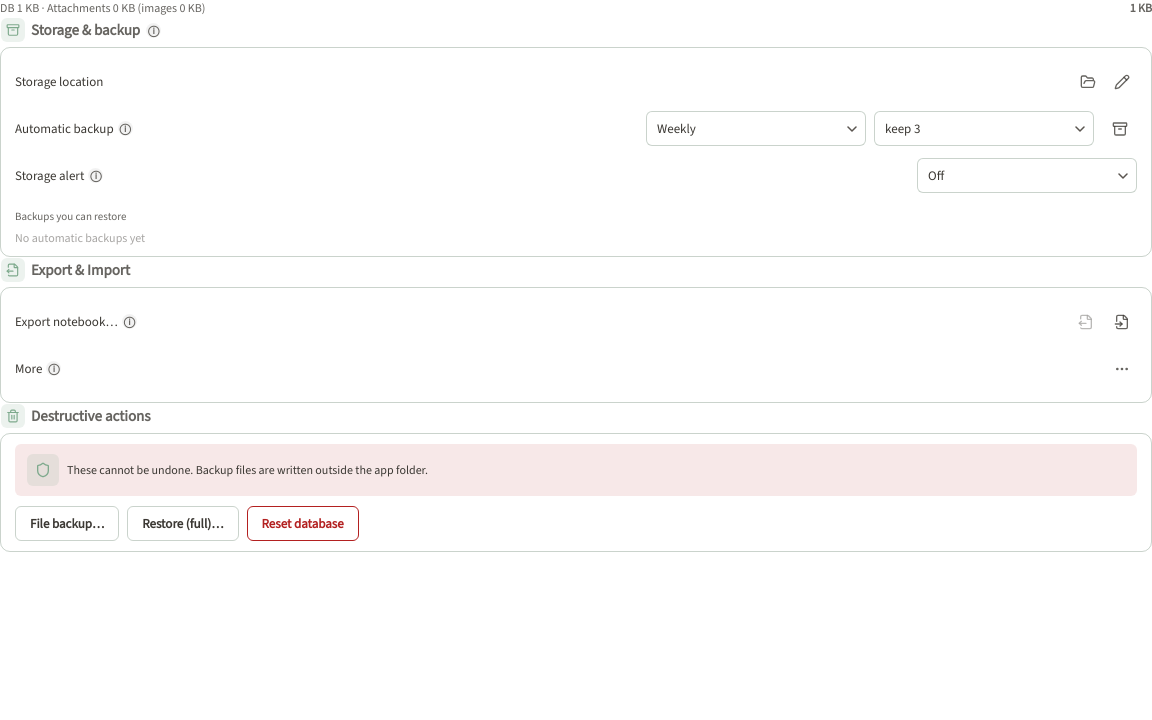
Test: DataManagementSection — §2.5 AI batch-organize offer › offers AI batch-organize with the right count after a successful import when AI is enabled+reachable
The width and height of the screenshot is (1152, 720).
Click the button named "more". click: (1122,369)
box: [1107,354,1137,384]
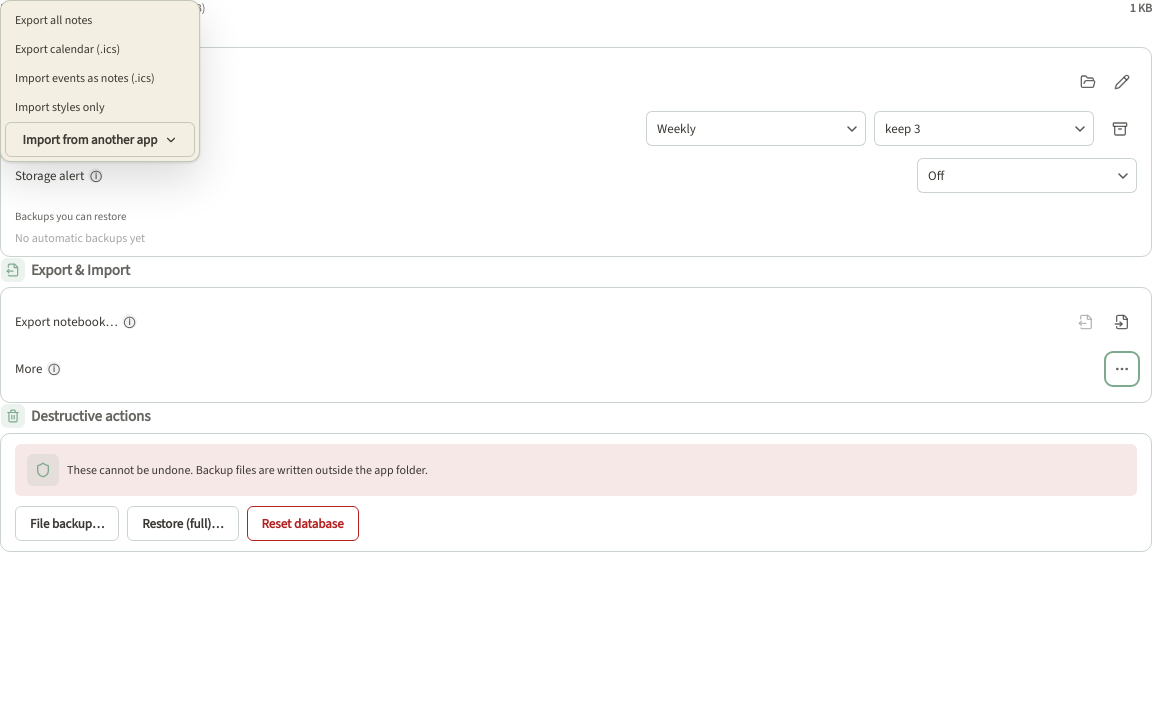
Click the button "Import from another app". click: (100,140)
box: [5,122,195,157]
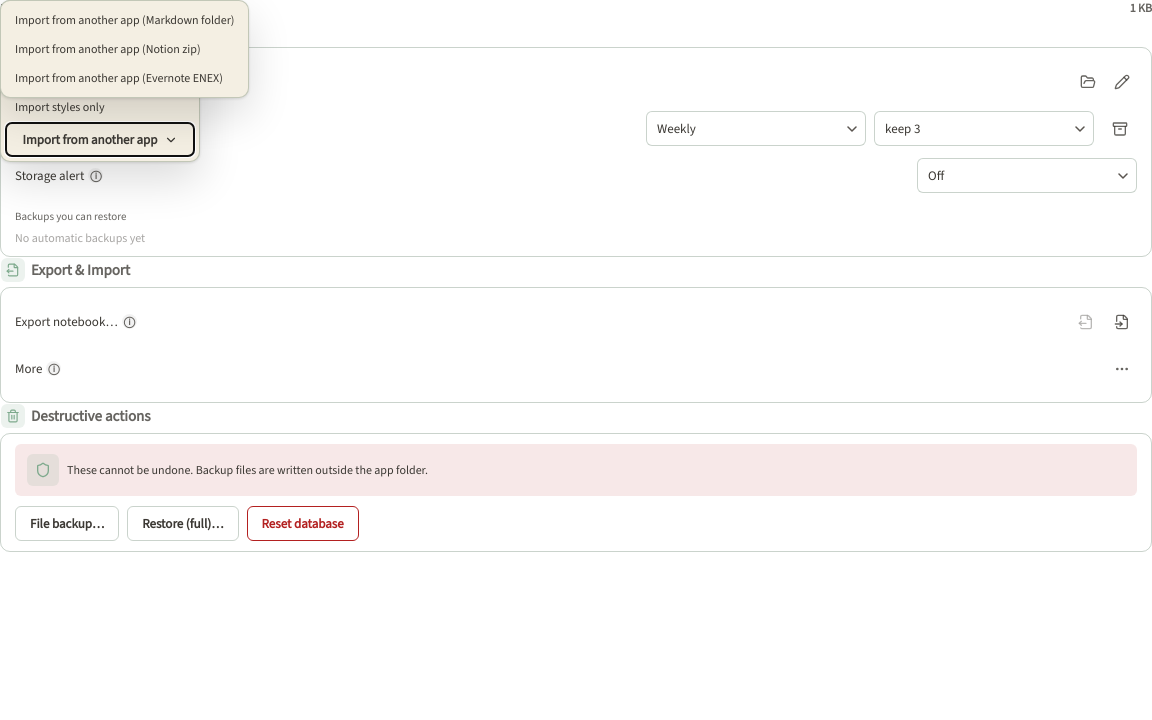
Click the button "Import from another app (Markdown folder)". click: (125,20)
box: [5,6,244,34]
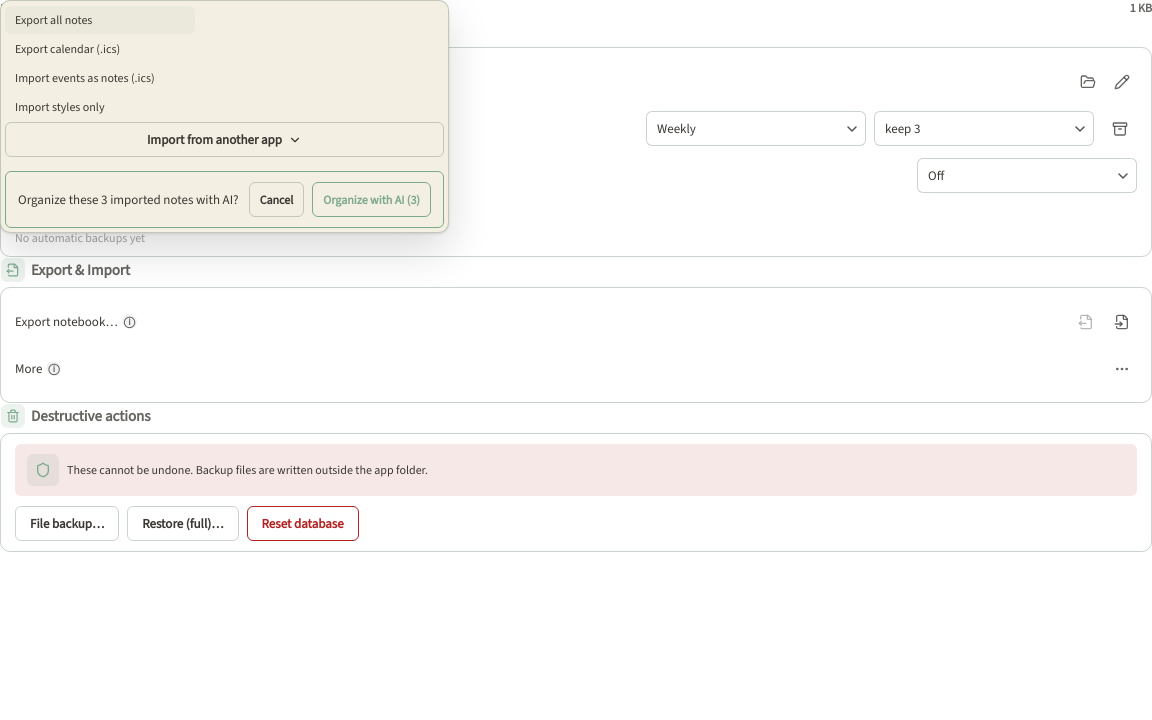
Click the button "Organize with AI (3)". click: (372,200)
box: [312,182,431,217]
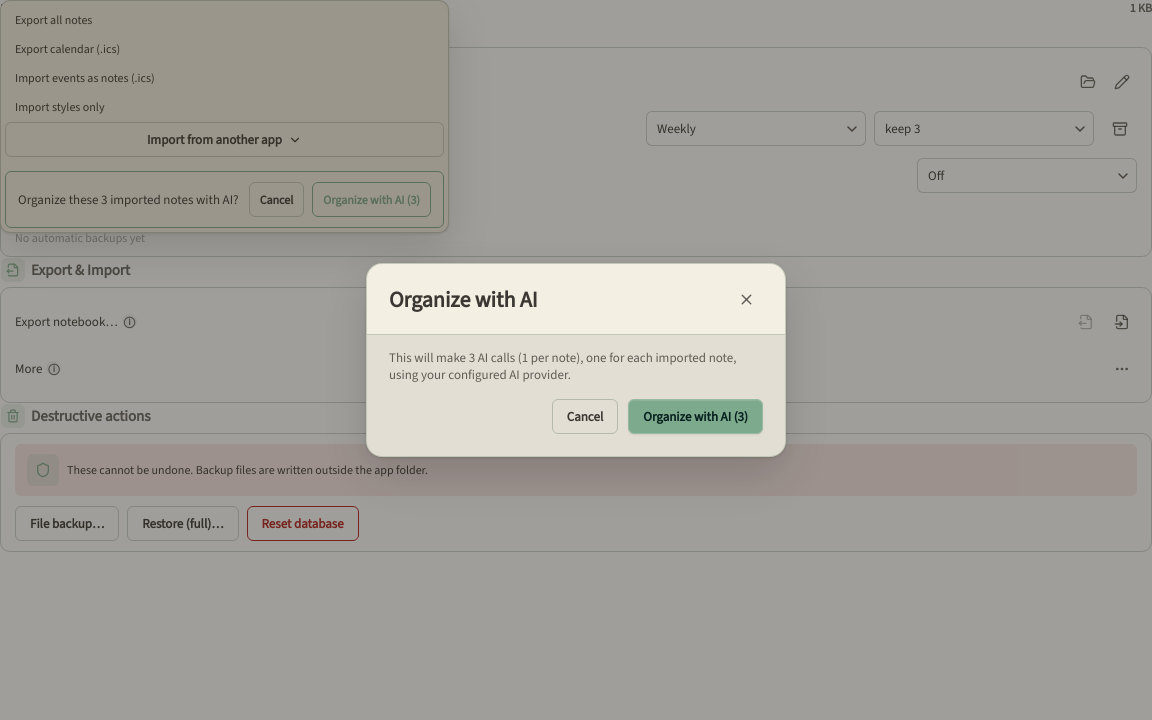
Expected: the text "3 AI calls" is shown, [389,349,736,383]
